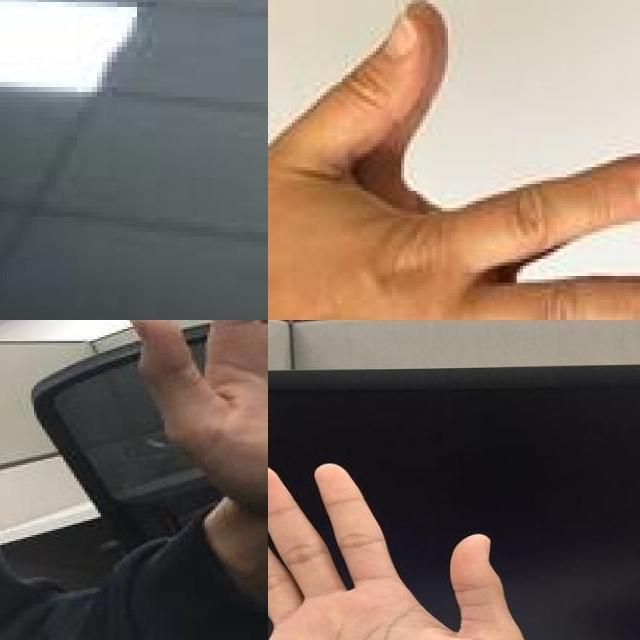no-gloves: (268, 10, 640, 320), (268, 458, 533, 640), (121, 320, 268, 509)
